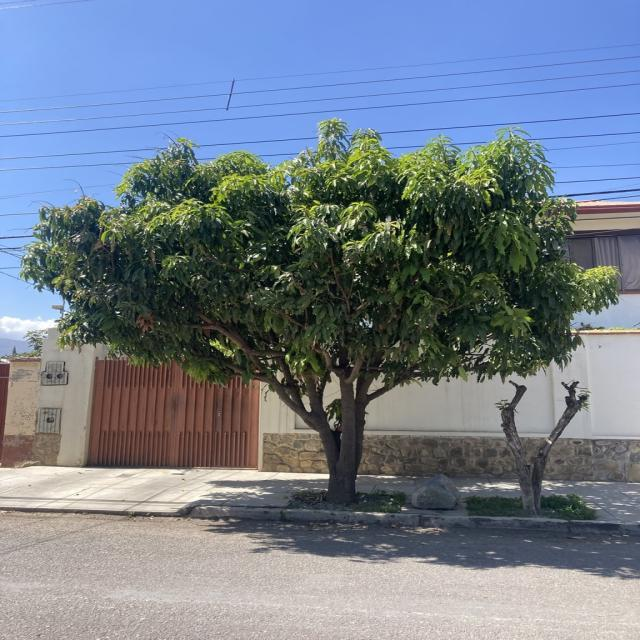Mango-Tree: (32, 146, 582, 507)
